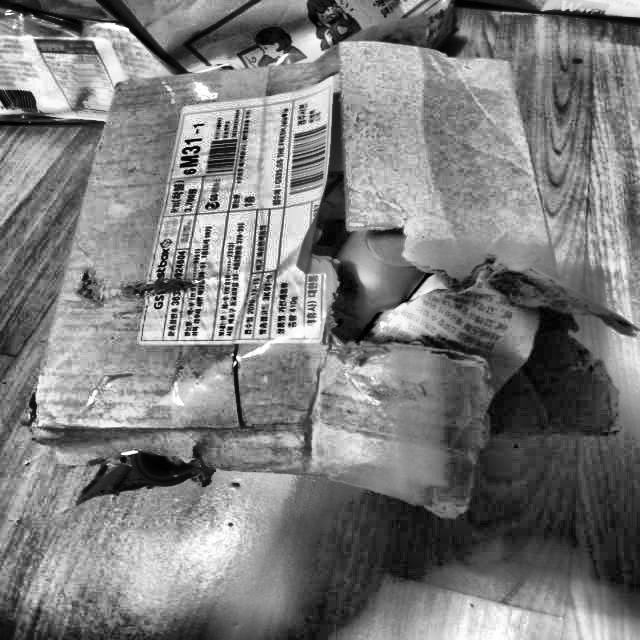box: (8, 24, 630, 541)
hole: (305, 208, 611, 446)
